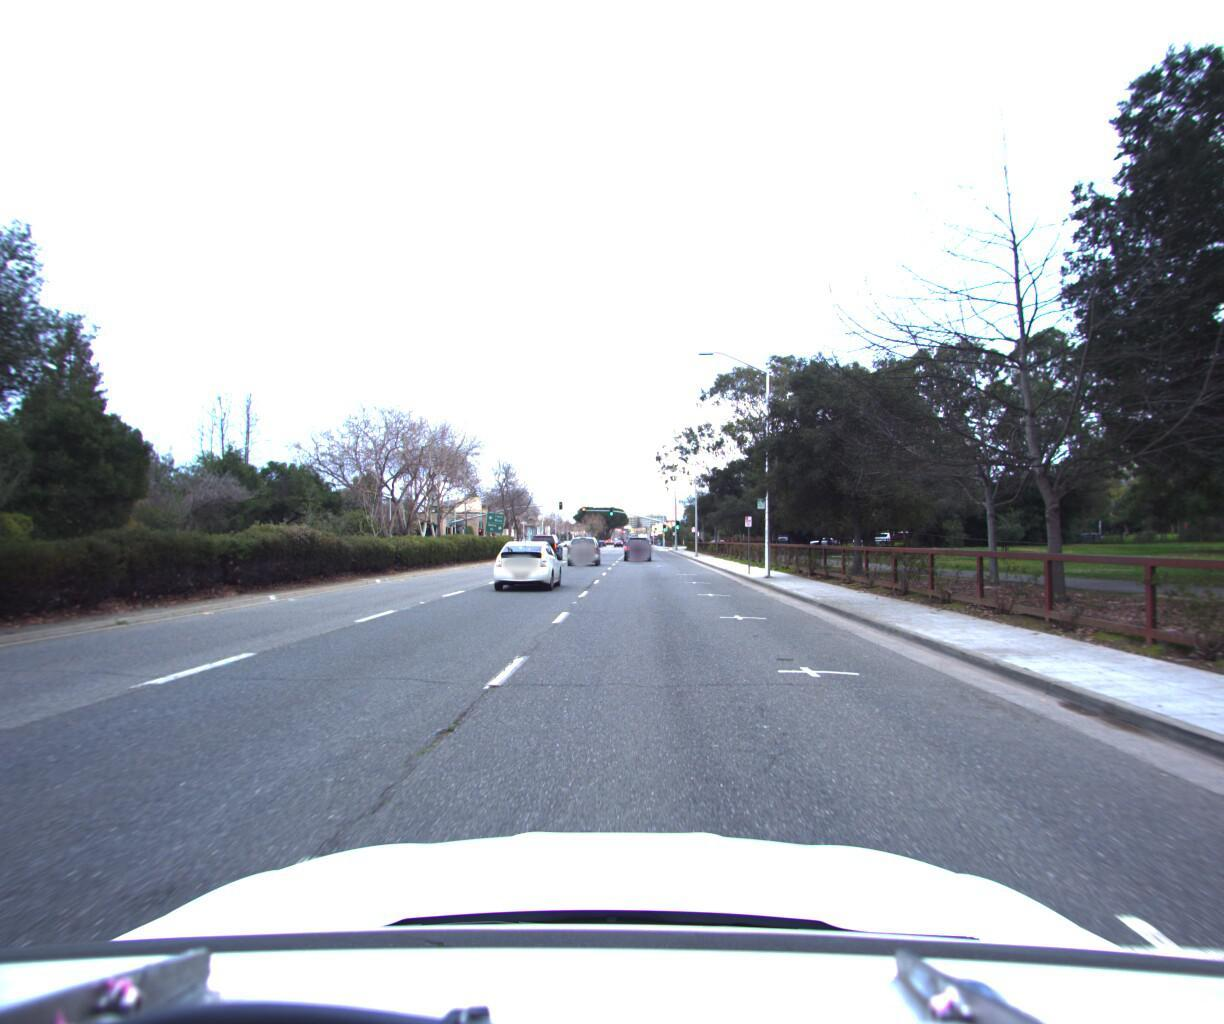car: (488, 535, 566, 590), (565, 530, 601, 561), (532, 529, 566, 557), (622, 533, 651, 558)
